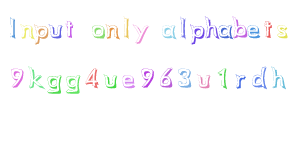1: (216, 66, 229, 90)
3: (176, 66, 193, 88)
4: (83, 65, 100, 89)
6: (158, 66, 174, 88)
9: (139, 66, 155, 88), (9, 66, 24, 89)
I: (6, 15, 24, 39)
a: (160, 23, 177, 39), (218, 23, 233, 39)
b: (232, 14, 246, 39)
d: (251, 65, 267, 89)
e: (246, 23, 262, 39), (121, 73, 137, 89)
g: (46, 74, 62, 96), (65, 74, 81, 95)
h: (270, 64, 287, 90), (204, 14, 219, 39)
k: (28, 66, 45, 89)
l: (121, 14, 132, 39), (179, 15, 187, 40)
n: (19, 22, 34, 39), (105, 23, 119, 40)
o: (90, 23, 106, 39)
p: (189, 23, 205, 45), (34, 24, 48, 46)
r: (234, 72, 247, 90)
s: (275, 23, 290, 39)
t: (262, 18, 274, 39), (64, 19, 75, 39)
u: (196, 72, 212, 89), (103, 72, 118, 89), (48, 23, 63, 39)
y: (132, 23, 149, 45)
